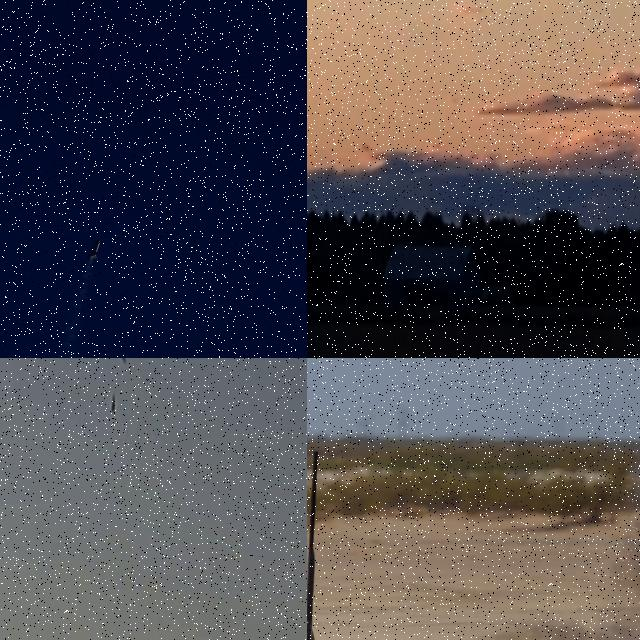Rocket: (86, 238, 100, 261), (111, 392, 116, 412)
